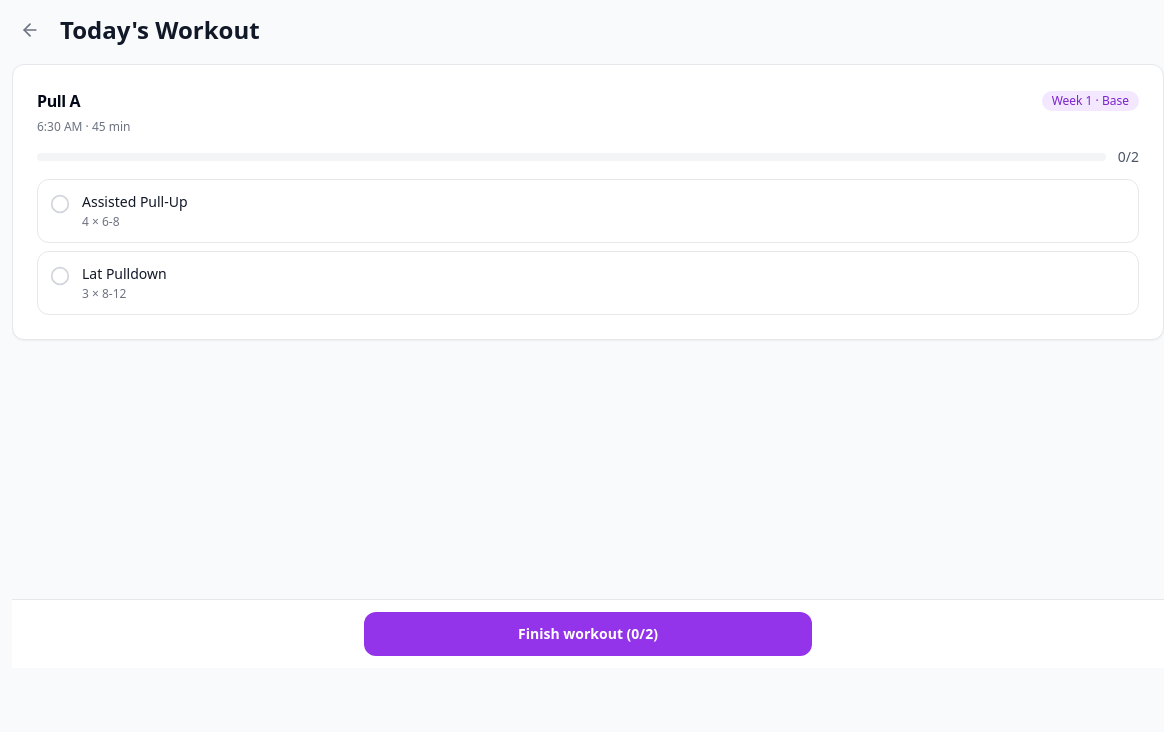
TodaysWorkoutSession › checks an item off and advances the counter
What coordinates should you click on to do the following:
click the text "Assisted Pull-Up"
I would click on:
 (135, 202)
Its box is [82,192,188,212].
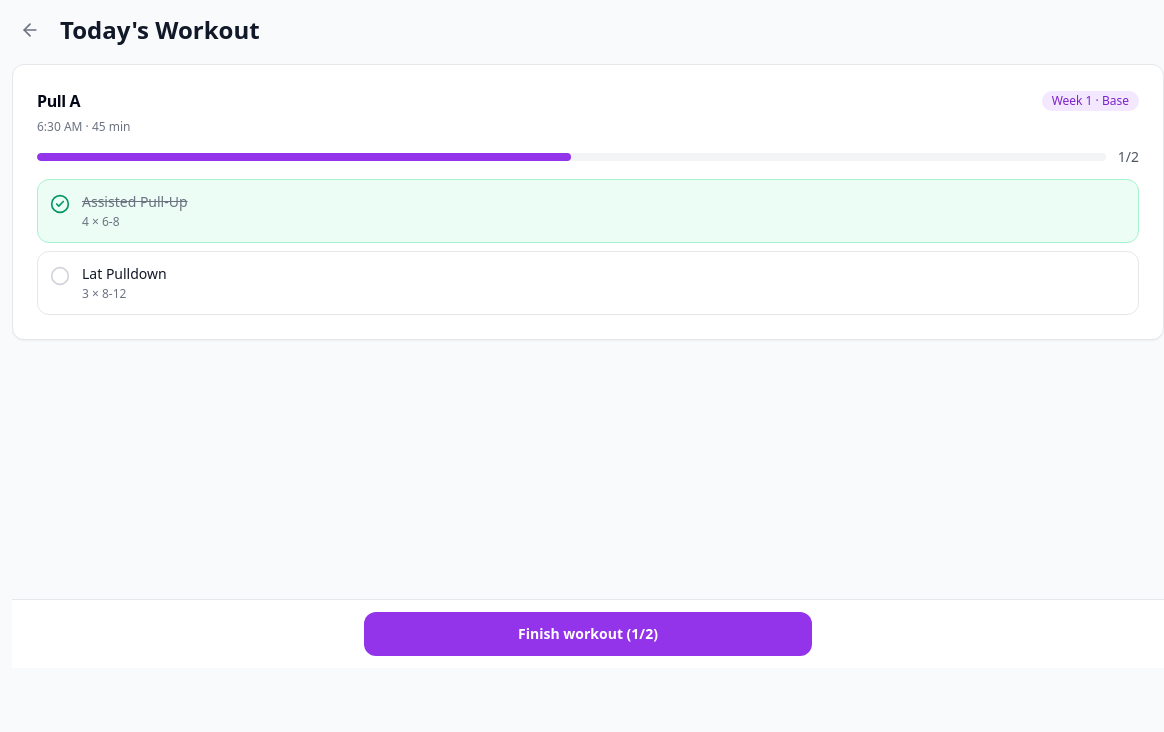
Expected: the text "1/2" is shown, [1118,147,1139,167]
# Toggling again unchecks it.
What coordinates should you click on to do the following:
click the text "Assisted Pull-Up"
I would click on:
 (135, 202)
Its box is [82,192,188,212].
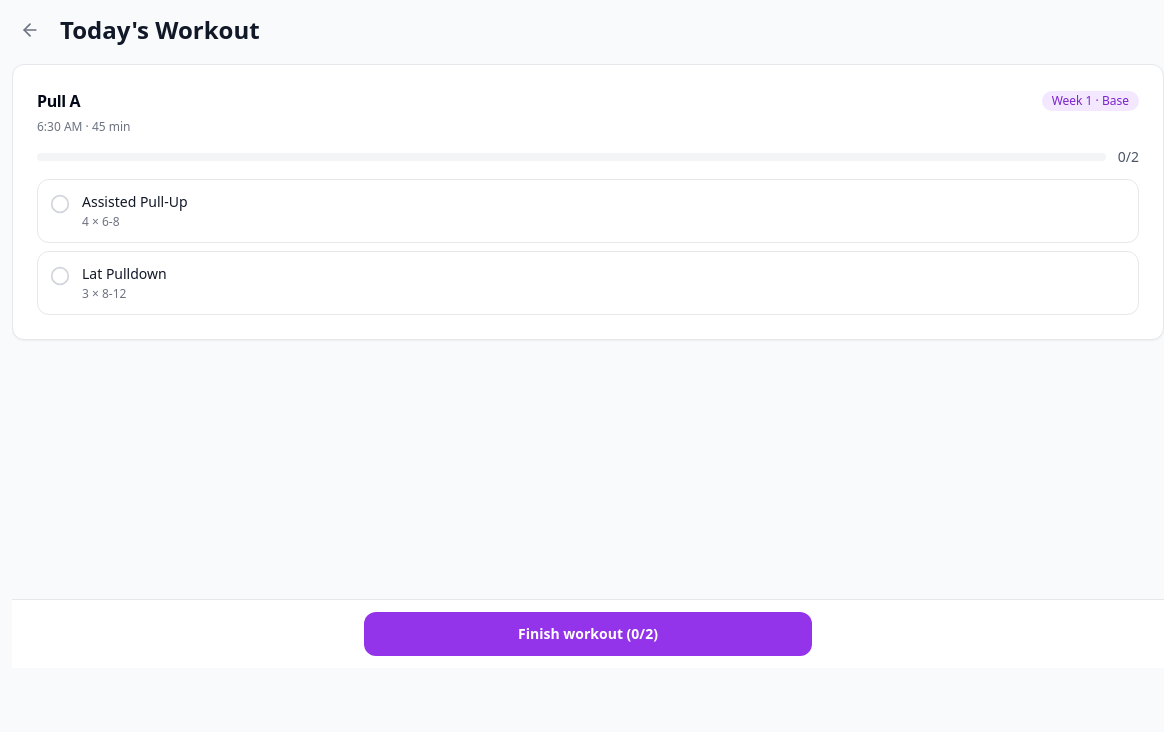
Expected: the text "0/2" is shown, [1118,147,1139,167]
